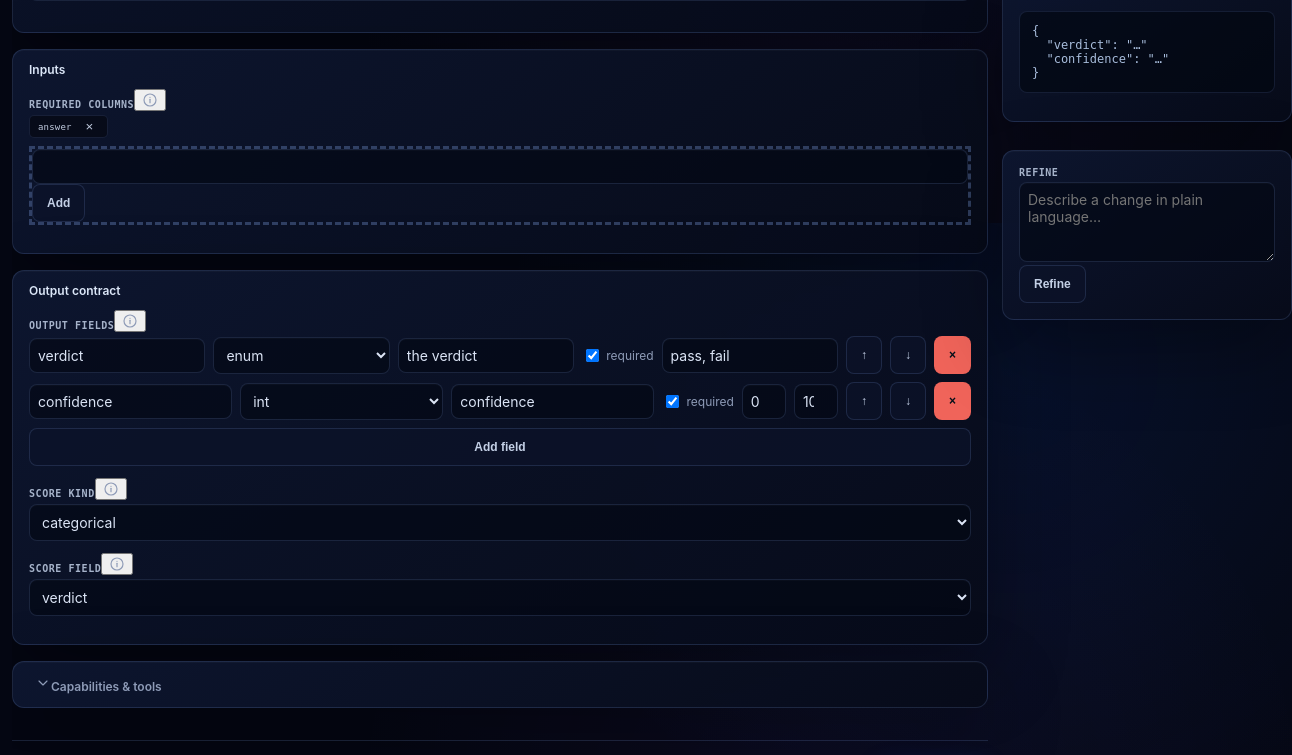
VersionEditor: inline validation › keeps score_labels in sync when a categorical score field's enum values change
(page scrolled)
// `verdict` is the first output field, so its enum-values input is "Field 0 enum values".
Replace the text in the field named "Field 0 enum values" with "pass, fail, skip" at (750, 355), box [662,338,838,372]
(page scrolled)
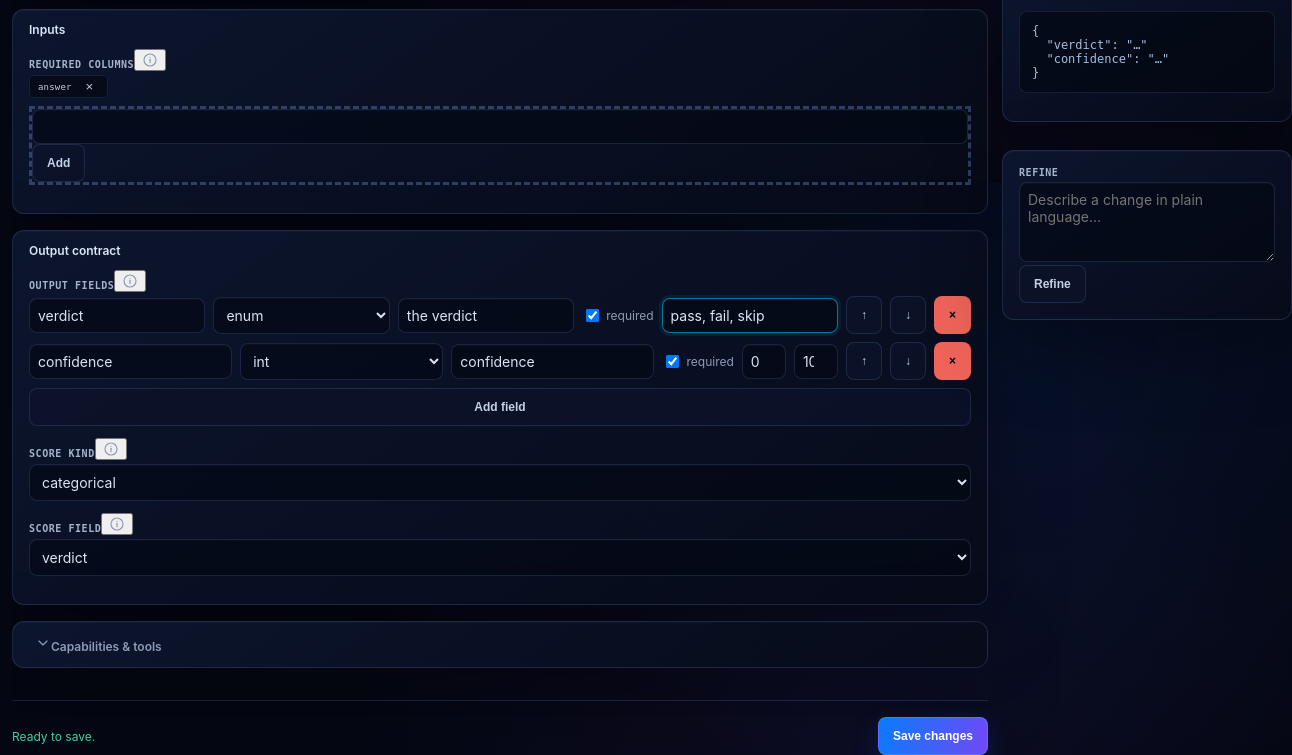
Expected: the button "Save changes" is enabled, [878,717,988,754]
